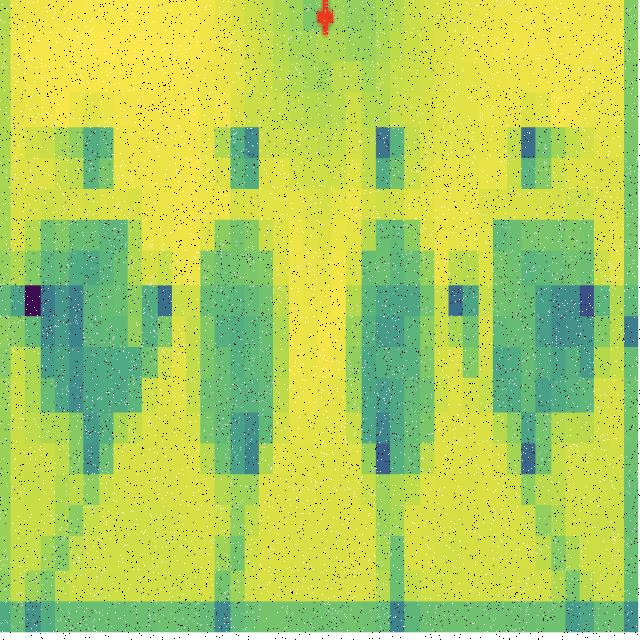Concrete: (200, 215, 280, 467)
Glass: (40, 219, 144, 413)
Metal: (357, 217, 436, 462)
Wood: (492, 220, 596, 416)
